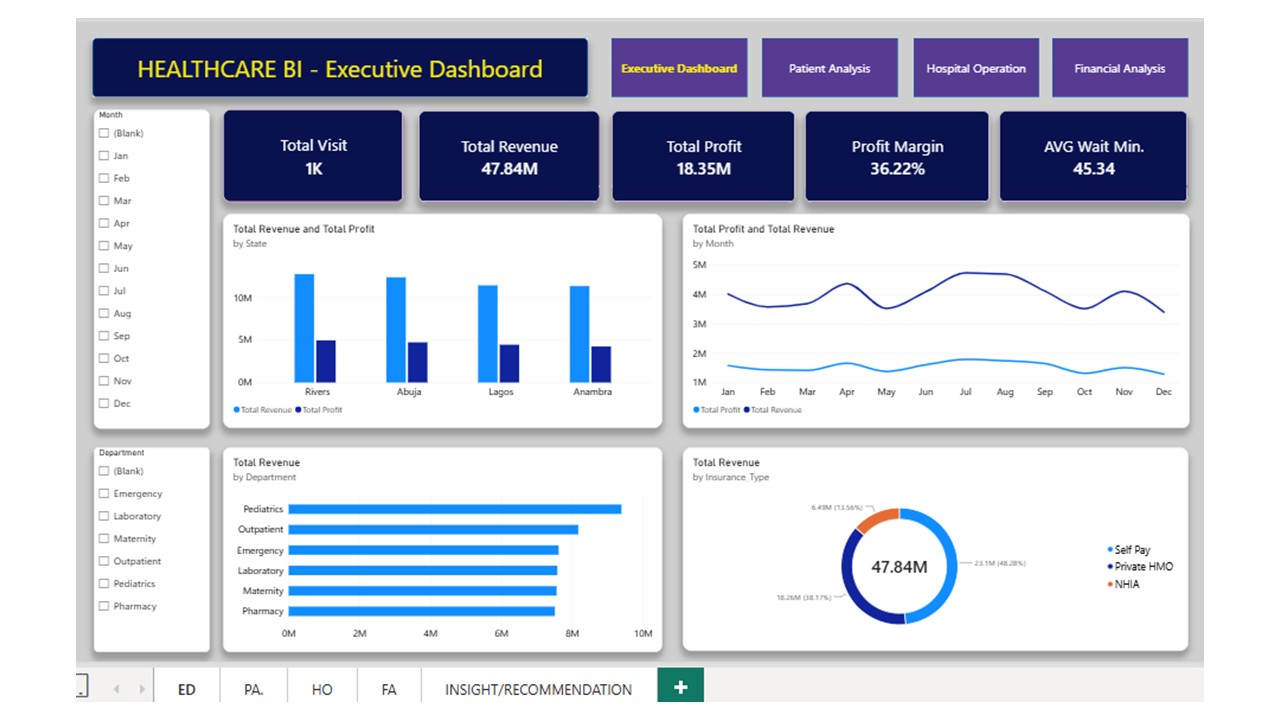

What the dashboard file says about the page in this screenshot:
{"tool":"powerbi","page":{"name":"ED","canvas":[1920,1080],"ordinal":0},"visuals":[{"type":"cardVisual","fields":{"Data":["Patient_Visits.Total Visit"]},"box":[256,148.6,305.5,156.9],"z":0},{"type":"cardVisual","fields":{"Data":["Patient_Visits.Total Revenue"]},"box":[585.4,149,306.7,155.5],"z":1000},{"type":"cardVisual","fields":{"Data":["Patient_Visits.Total Profit"]},"box":[911.5,149,311,155.5],"z":2000},{"type":"cardVisual","fields":{"Data":["Patient_Visits.Profit Margin"]},"box":[1237.7,149,313.2,155.5],"z":3000},{"type":"cardVisual","fields":{"Data":["Patient_Visits.AVG Wait Min."]},"box":[1566,149,319.7,155.5],"z":4000},{"type":"clusteredColumnChart","title":"Total Revenue vs Total Profit","fields":{"Category":["Patient_Visits.State"],"Y":["Patient_Visits.Total Revenue","Patient_Visits.Total Profit"]},"box":[256,324,742,362],"z":5000},{"type":"lineChart","fields":{"Category":["Patient_Visits.Month"],"Y":["Patient_Visits.Total Profit","Patient_Visits.Total Revenue"]},"box":[1013.2,324,873.8,361.3],"z":6000},{"type":"clusteredBarChart","fields":{"Category":["Patient_Visits.Department"],"Y":["Patient_Visits.Total Revenue"]},"box":[255.3,704.9,742.3,359.3],"z":7000},{"type":"donutChart","fields":{"Category":["Patient_Visits.Insurance_Type"],"Y":["Patient_Visits.Total Revenue"]},"box":[1013.2,704.9,871.9,357.4],"z":8000},{"type":"slicer","fields":{"Values":["Patient_Visits.Month"]},"box":[37.2,148.6,196.1,538.8],"z":9000},{"type":"slicer","fields":{"Values":["Patient_Visits.Department"]},"box":[37.3,704.9,196.4,359.3],"z":10000},{"type":"shape","title":"HEALTHCARE BI","box":[36.7,28.1,835.9,99.4],"z":11000},{"type":"shape","box":[911.5,28.1,229,99.4],"z":12000},{"type":"shape","box":[1166.4,28.1,229,99.4],"z":13000},{"type":"shape","box":[1421.3,28.1,211.7,99.4],"z":14000},{"type":"shape","box":[1656.7,28.1,229,99.4],"z":15000}]}

Visuals, with their boxes on the page's 1920x1080 design canvas (x1, y1, x2, y2). These are canvas units, not pixel positions in the 1280x720 screenshot, which may show the page scaled, cropped or inside an application window:
cardVisual - Patient_Visits.Total Visit: bbox(256, 149, 562, 306)
cardVisual - Patient_Visits.Total Revenue: bbox(585, 149, 892, 304)
cardVisual - Patient_Visits.Total Profit: bbox(912, 149, 1222, 304)
cardVisual - Patient_Visits.Profit Margin: bbox(1238, 149, 1551, 304)
cardVisual - Patient_Visits.AVG Wait Min.: bbox(1566, 149, 1886, 304)
"Total Revenue vs Total Profit" clusteredColumnChart: bbox(256, 324, 998, 686)
lineChart - Patient_Visits.Month x Patient_Visits.Total Profit: bbox(1013, 324, 1887, 685)
clusteredBarChart - Patient_Visits.Department x Patient_Visits.Total Revenue: bbox(255, 705, 998, 1064)
donutChart - Patient_Visits.Insurance_Type x Patient_Visits.Total Revenue: bbox(1013, 705, 1885, 1062)
slicer - Patient_Visits.Month: bbox(37, 149, 233, 687)
slicer - Patient_Visits.Department: bbox(37, 705, 234, 1064)
"HEALTHCARE BI" shape: bbox(37, 28, 873, 128)
shape: bbox(912, 28, 1140, 128)
shape: bbox(1166, 28, 1395, 128)
shape: bbox(1421, 28, 1633, 128)
shape: bbox(1657, 28, 1886, 128)
